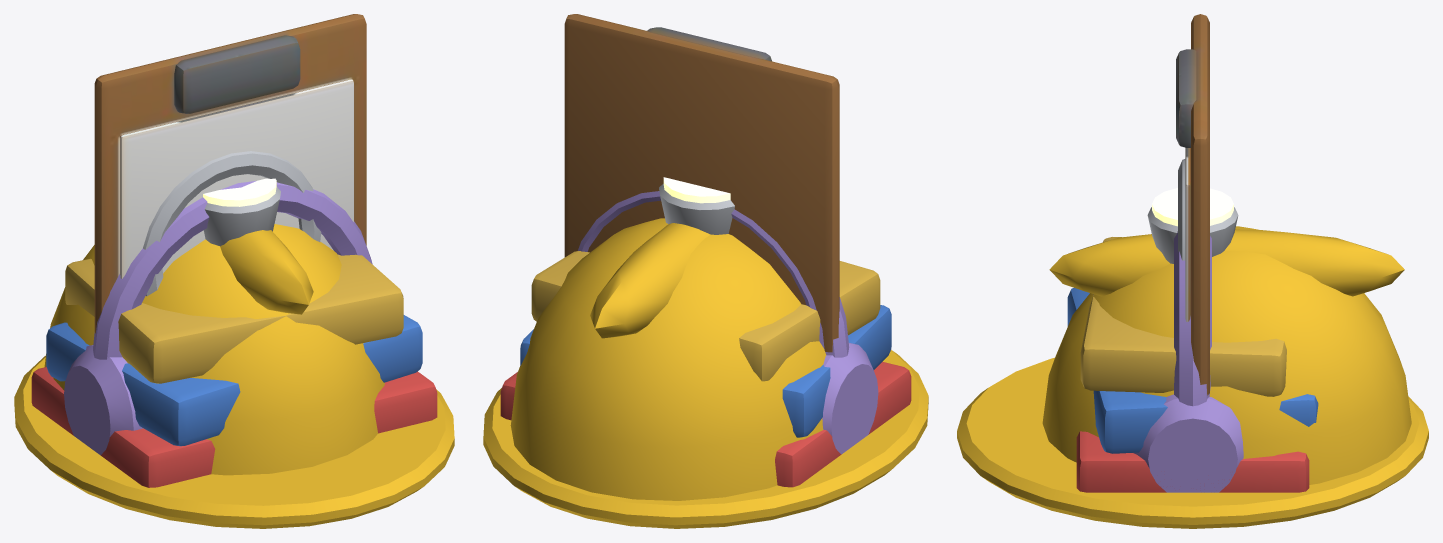
The model's file is accessories.58a4b5f9.glb.
The picture shows the model from 3 angles, left to right: view 1: azimuth 30°, elevation 25°; view 2: azimuth 150°, elevation 25°; view 3: azimuth 270°, elevation 25°; orthographic projection. The views are drawn at different scales.
Visible parts, largest first — view 1: hard-hat, clipboard, book-stack, headphones, magnifier, flashlight; view 2: hard-hat, clipboard, book-stack, headphones, flashlight; view 3: hard-hat, book-stack, headphones, clipboard, flashlight, magnifier.
Part boxes in pixels (x1,y1,x2,y2): hard-hat: (14,224,454,528); clipboard: (94,14,366,333); book-stack: (31,254,437,487); headphones: (64,181,372,455); magnifier: (143,151,321,296); flashlight: (203,178,280,245); hard-hat: (483,218,928,528); clipboard: (564,14,839,352); book-stack: (500,251,911,487); headphones: (578,191,878,454); flashlight: (659,177,734,234); hard-hat: (957,226,1428,528); book-stack: (1067,237,1318,492); headphones: (1133,231,1243,492); clipboard: (1176,14,1209,395); flashlight: (1147,188,1238,263); magnifier: (1178,159,1185,260).
Bounding box in the file's own units: 0.3 × 0.3 × 0.345.
18 materials, 1 textured.
